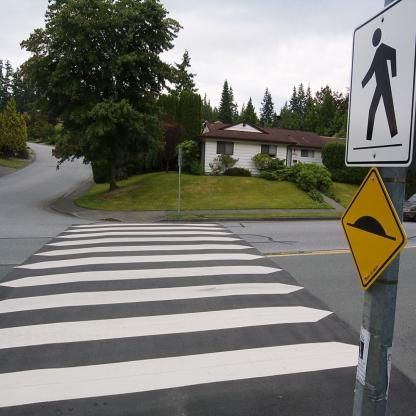Crosswalk: (1, 224, 371, 369)
